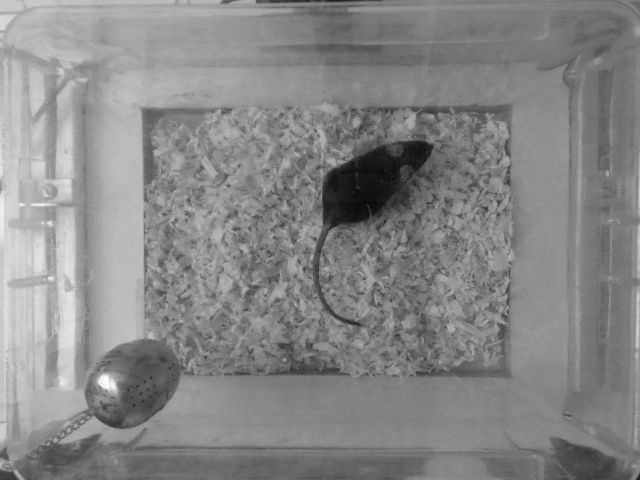mice: (312, 132, 442, 333)
